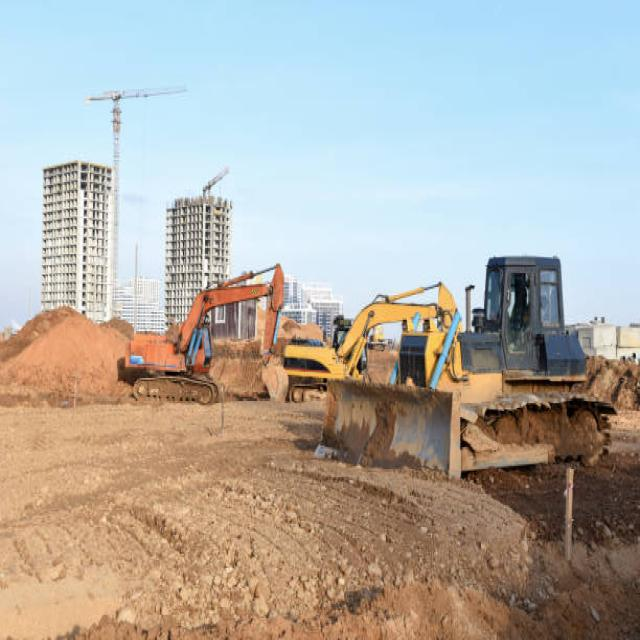buldozerpayloadergrader: (317, 245, 619, 484)
excavator: (112, 261, 287, 412)
